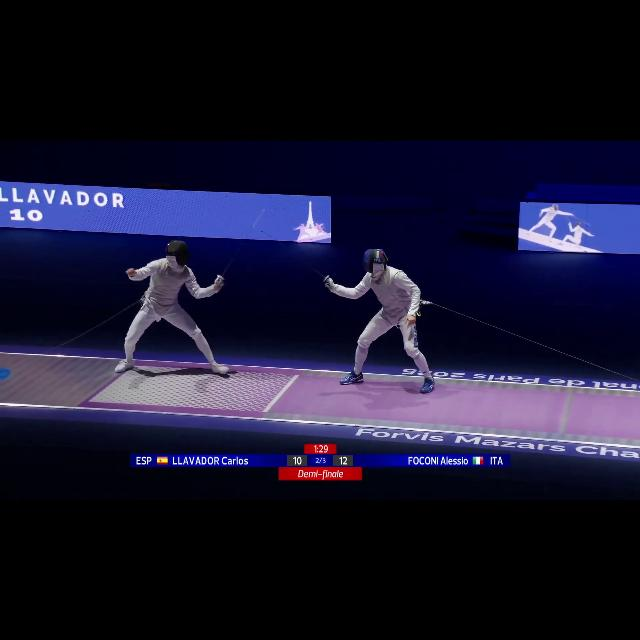blade: (215, 208, 269, 288), (258, 230, 334, 284)
